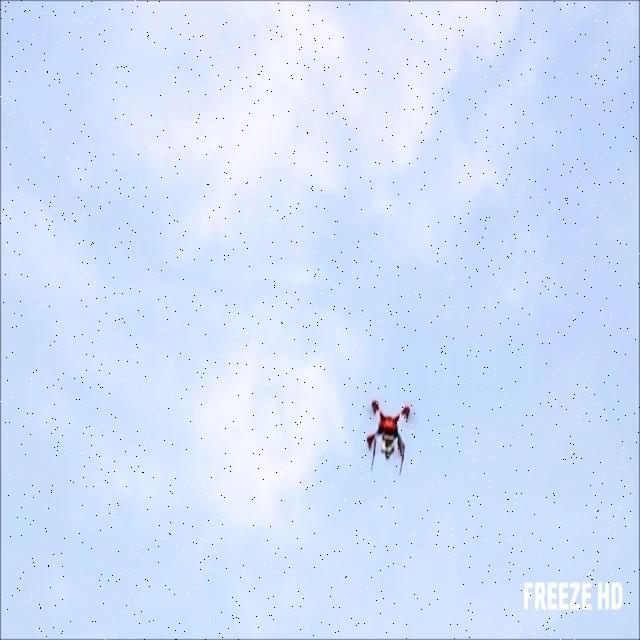UAV: (365, 397, 411, 475)
